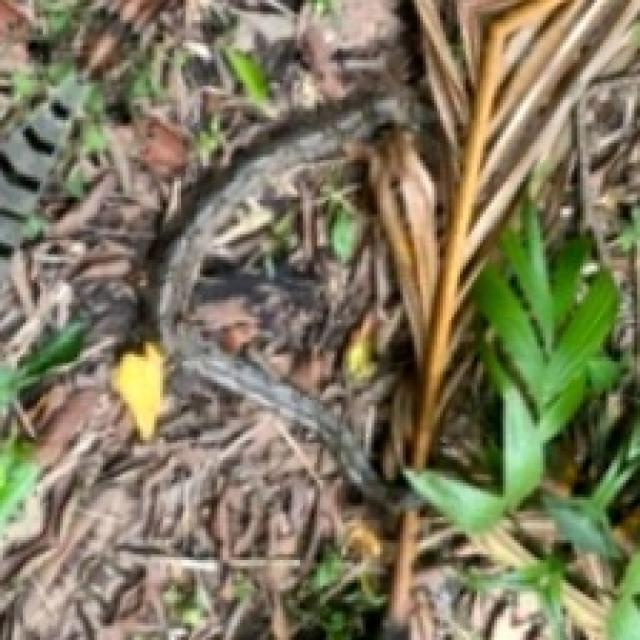reticulated python: (157, 91, 400, 503), (200, 174, 311, 286)
